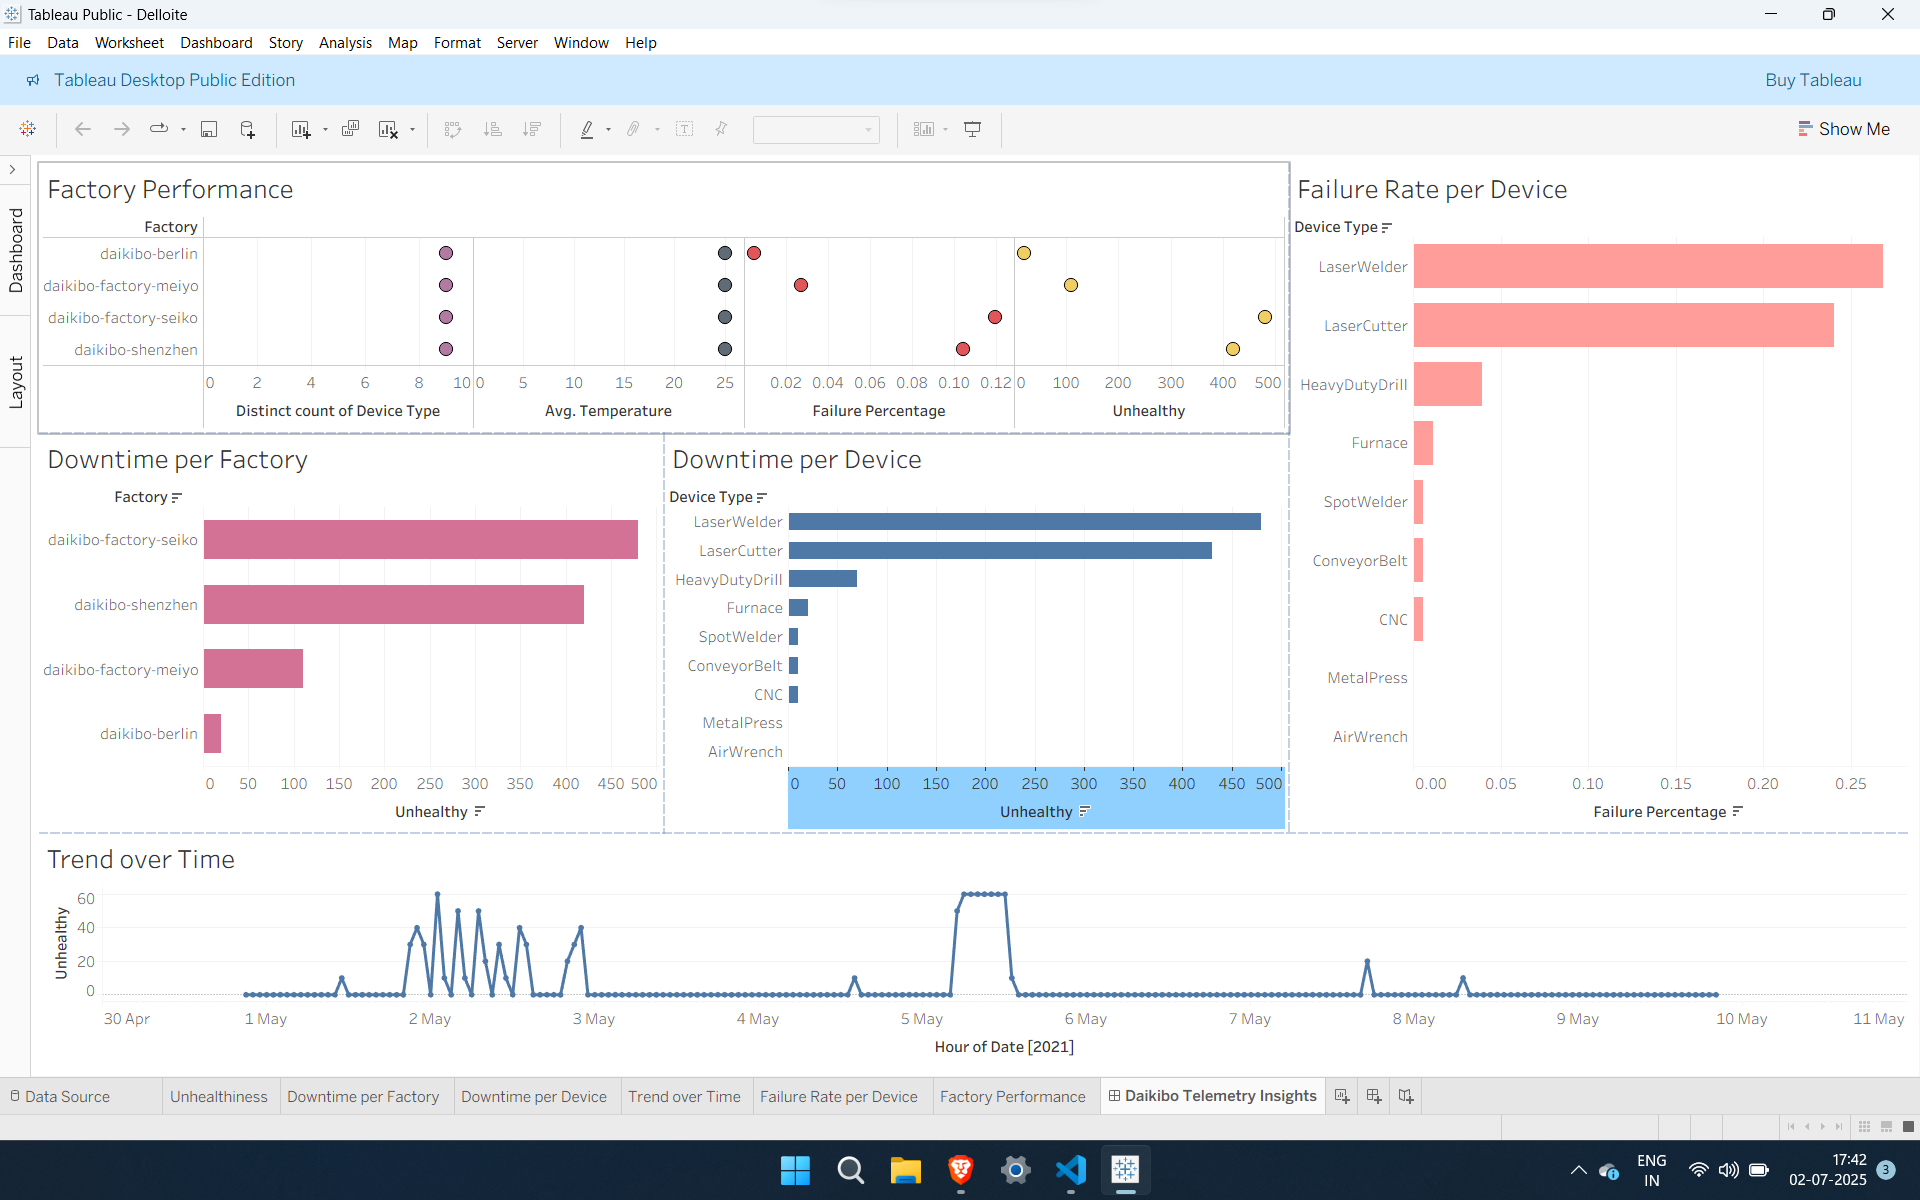

The page's visual inventory and layout, read from the dashboard file:
{"tool":"tableau","page":{"name":"Daikibo Telemetry Insights","canvas":[1000,1000],"units":"permille","ordinal":0},"visuals":[{"type":"worksheet","title":"Factory Performance","mark":"Circle","rows":["factory"],"cols":["deviceType","temperature","Calculation_887772102640779267","Calculation_887772102633459713"],"box":[4.2,8.7,662.2,293.2]},{"type":"worksheet","title":"Failure Rate per Device","mark":"Automatic","rows":["deviceType"],"cols":["Calculation_887772102640779267"],"box":[666.4,8.7,329.3,727.5]},{"type":"worksheet","title":"Downtime per Factory","mark":"Automatic","rows":["factory"],"cols":["Calculation_887772102633459713"],"box":[4.2,301.9,331.1,434.3]},{"type":"worksheet","title":"Downtime per Device","mark":"Automatic","rows":["deviceType"],"cols":["Calculation_887772102633459713"],"box":[335.3,301.9,331.1,434.3]},{"type":"worksheet","title":"Trend over Time","mark":"Line","rows":["Calculation_887772102633459713"],"cols":["Calculation_887772102638481410"],"box":[4.2,736.2,991.5,255.2]}]}

Visuals, with their boxes on the dashboard's canvas, which has no fixed pixel size, in thousandths of its width and height (x1, y1, x2, y2). These are canvas units, not pixel positions in the 1920x1200 screenshot, which may show the page scaled, cropped or inside an application window:
"Factory Performance" worksheet (Circle marks): 4,9,666,302
"Failure Rate per Device" worksheet: 666,9,996,736
"Downtime per Factory" worksheet: 4,302,335,736
"Downtime per Device" worksheet: 335,302,666,736
"Trend over Time" worksheet (Line marks): 4,736,996,991
